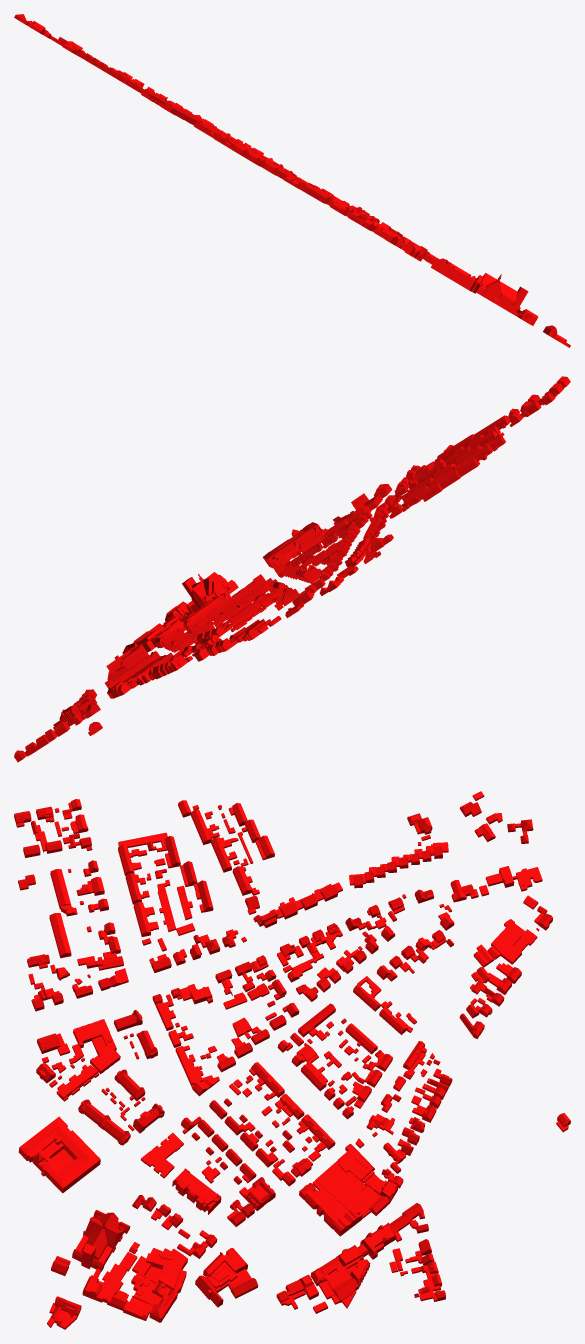
The picture shows the model from 3 angles, top to bottom: view 1: azimuth 30°, elevation 25°; view 2: azimuth 150°, elevation 25°; view 3: azimuth 270°, elevation 25°; orthographic projection. The views are drawn at different scales.
Visible parts, largest first — view 1: mesh; view 2: mesh; view 3: mesh.
Part boxes in pixels (<box>): mesh: <box>14,14,570,347</box>; mesh: <box>14,376,570,762</box>; mesh: <box>14,791,570,1329</box>.
Size of the model in its own units: 437 by 329 by 491.
